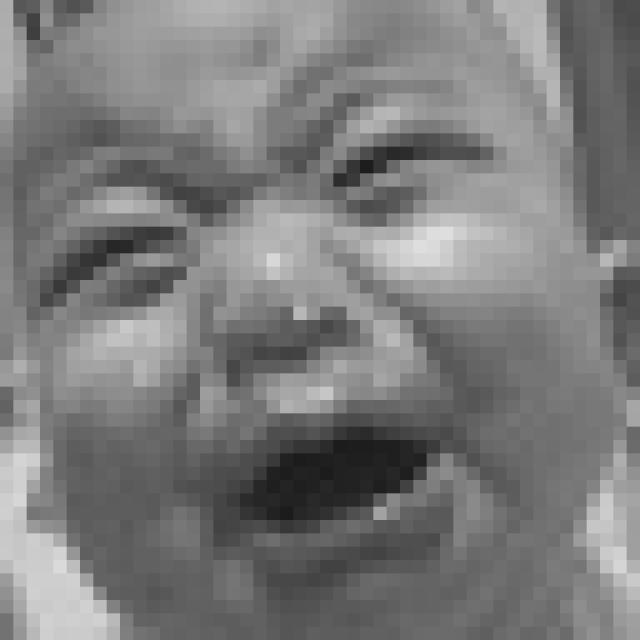sad: (25, 57, 501, 600)
